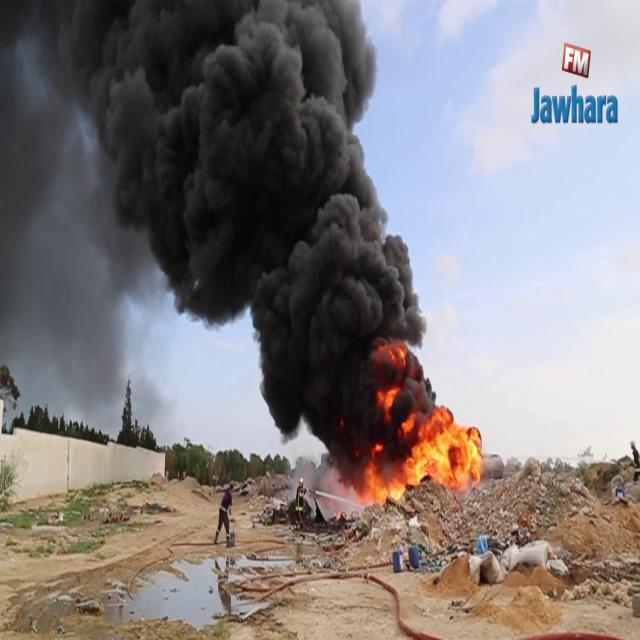Fire: (344, 372, 486, 511)
Smoke: (58, 0, 385, 327), (0, 0, 156, 408), (250, 236, 426, 447)
